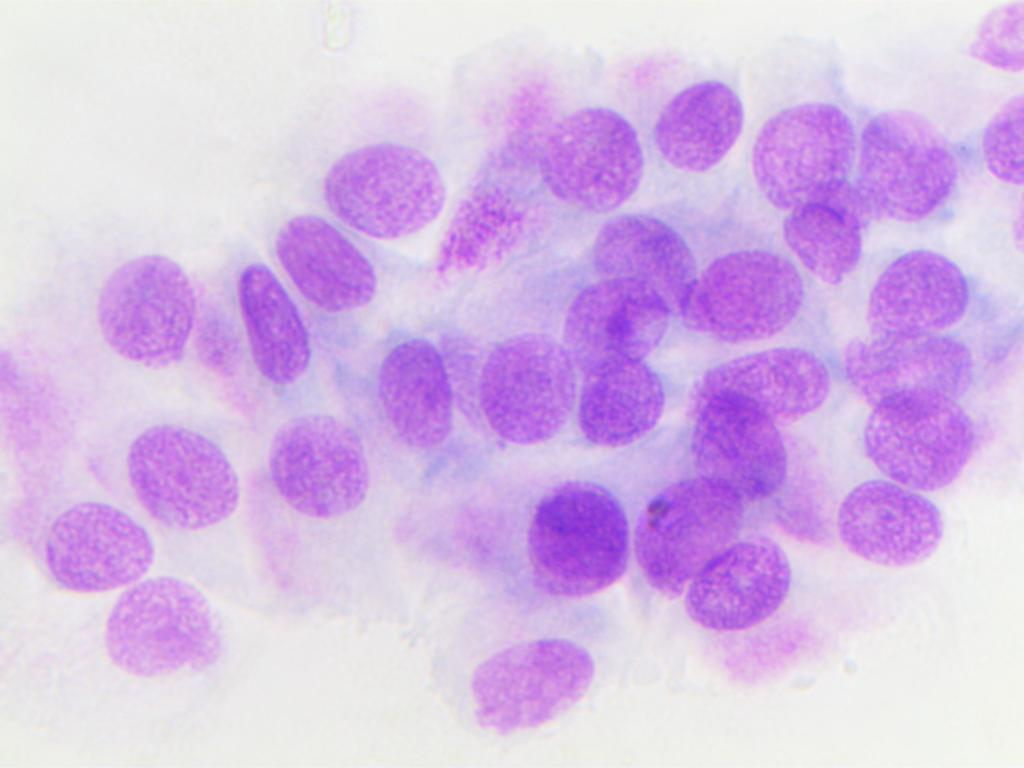epithelial: (390, 451, 628, 602), (79, 248, 234, 422), (415, 627, 619, 752), (115, 368, 247, 524), (91, 571, 253, 696), (200, 232, 317, 390), (570, 197, 704, 326), (678, 329, 834, 429), (524, 97, 649, 214), (312, 137, 446, 240), (16, 498, 151, 600), (749, 74, 854, 205), (551, 267, 676, 376), (856, 98, 963, 225), (633, 69, 750, 181), (356, 335, 474, 446), (251, 408, 369, 519), (818, 476, 959, 568), (477, 327, 574, 456), (865, 396, 984, 492), (267, 212, 376, 316), (689, 239, 805, 336), (861, 252, 980, 342), (577, 340, 677, 447), (687, 532, 794, 631), (778, 178, 867, 297), (687, 390, 792, 486), (972, 80, 1024, 192)
